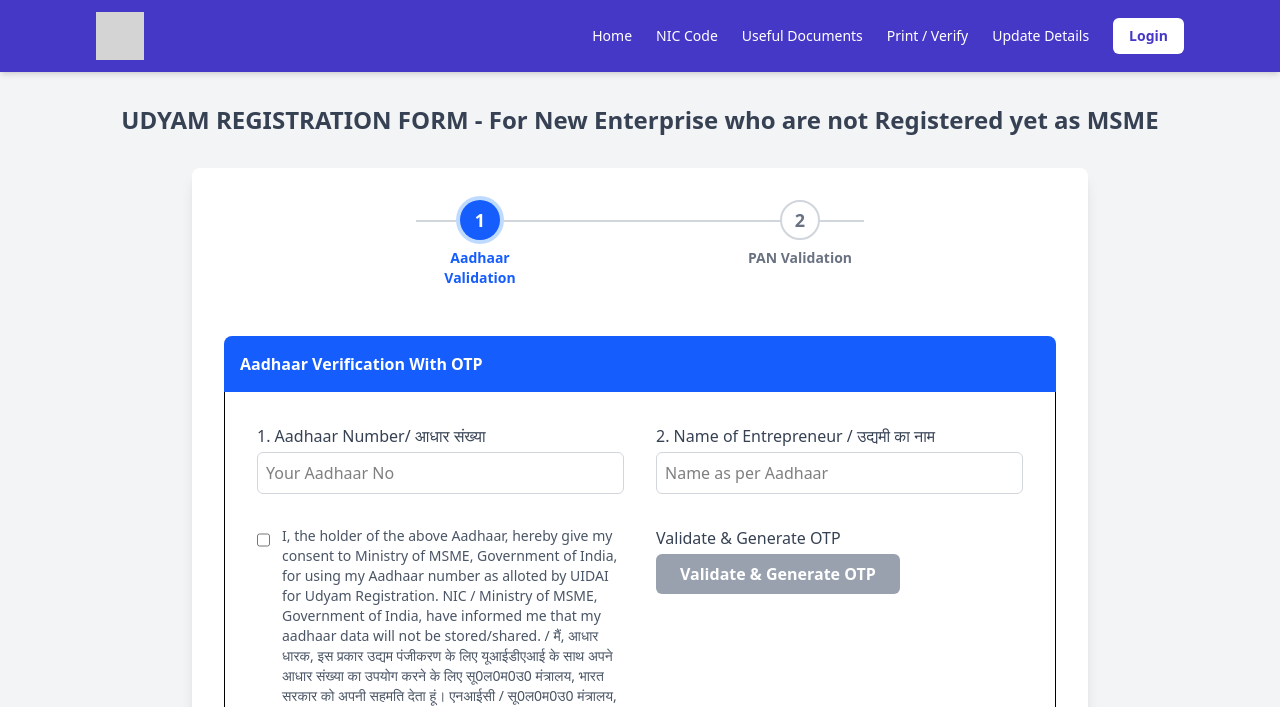
UdyamForm Component › shows an error message for an incomplete Aadhaar number
This screenshot has width=1280, height=707.
Type "12345" into the field with placeholder "Your Aadhaar No" at [440, 473], box [257,452,624,494]
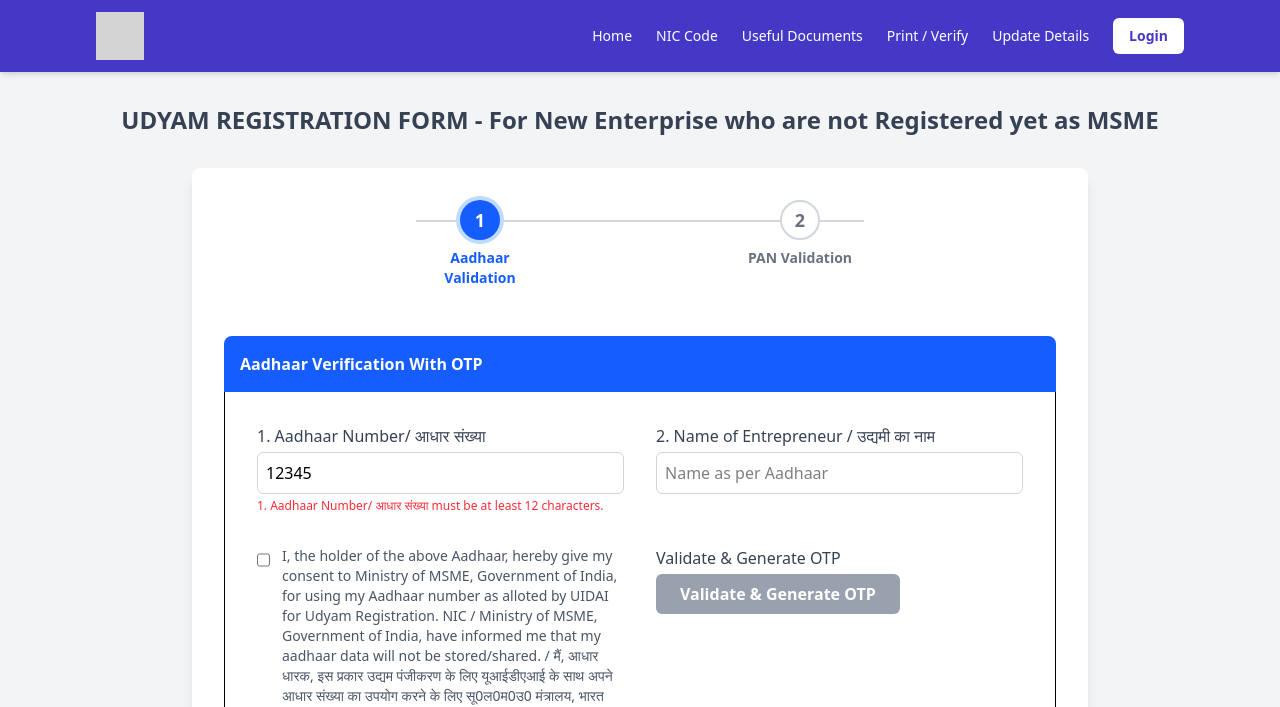
Expected: the text "must be at least 12 characters" is shown, [257,497,604,514]
